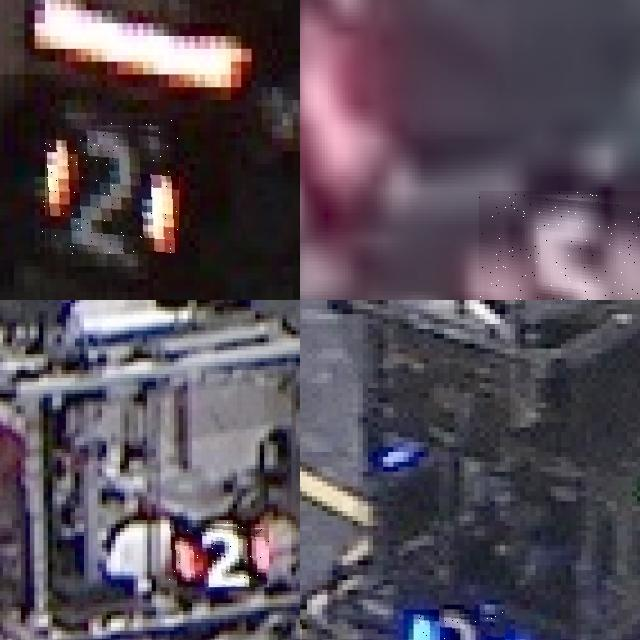B2: (413, 609, 505, 640)
R2: (40, 119, 179, 254), (165, 520, 269, 587)
R5: (479, 191, 640, 300)
